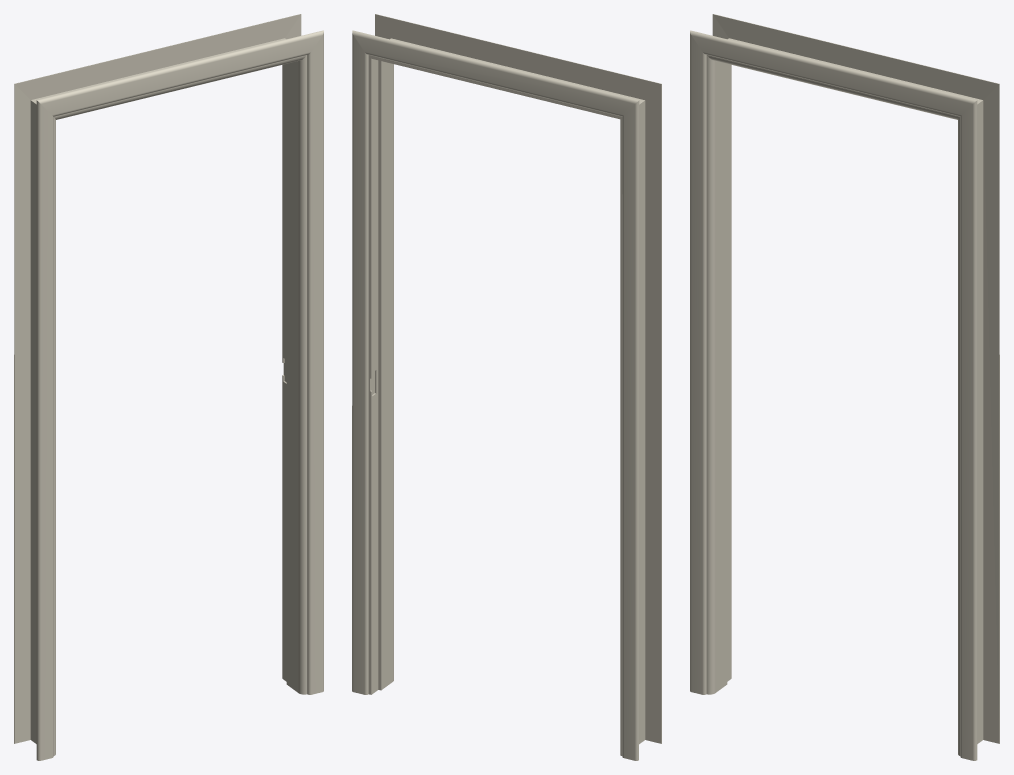
Rendered from DoorFramePrepared.glb.
3 renders of one model, left to right at view 1: azimuth 30°, elevation 25°; view 2: azimuth 150°, elevation 25°; view 3: azimuth 330°, elevation 25°, orthographic.
Visible parts, largest first — view 1: DoorFramePrepared_Material2.025; view 2: DoorFramePrepared_Material2.025; view 3: DoorFramePrepared_Material2.025.
Boxes of the visible parts, x1,y1,x2,y2 form: DoorFramePrepared_Material2.025: [14, 14, 323, 760]; DoorFramePrepared_Material2.025: [352, 14, 661, 760]; DoorFramePrepared_Material2.025: [690, 14, 999, 760].
Size of the model in its own units: 1.1 by 2.42 by 0.17.
